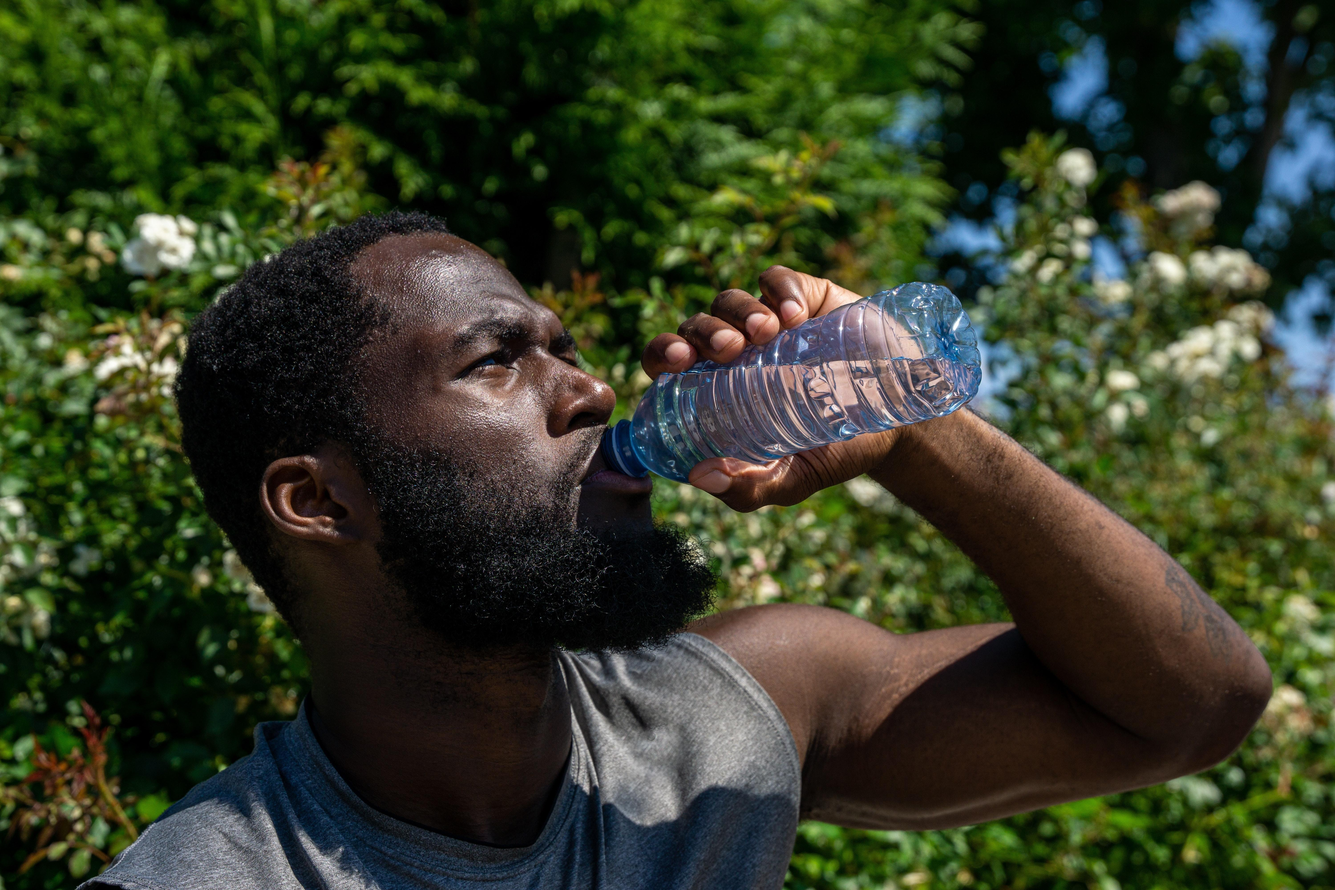bottle-plastic: (617, 270, 988, 486)
